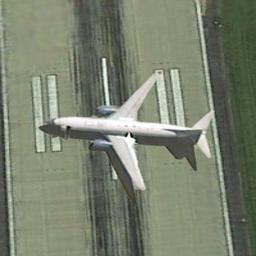Airplane: (38, 59, 212, 200)
